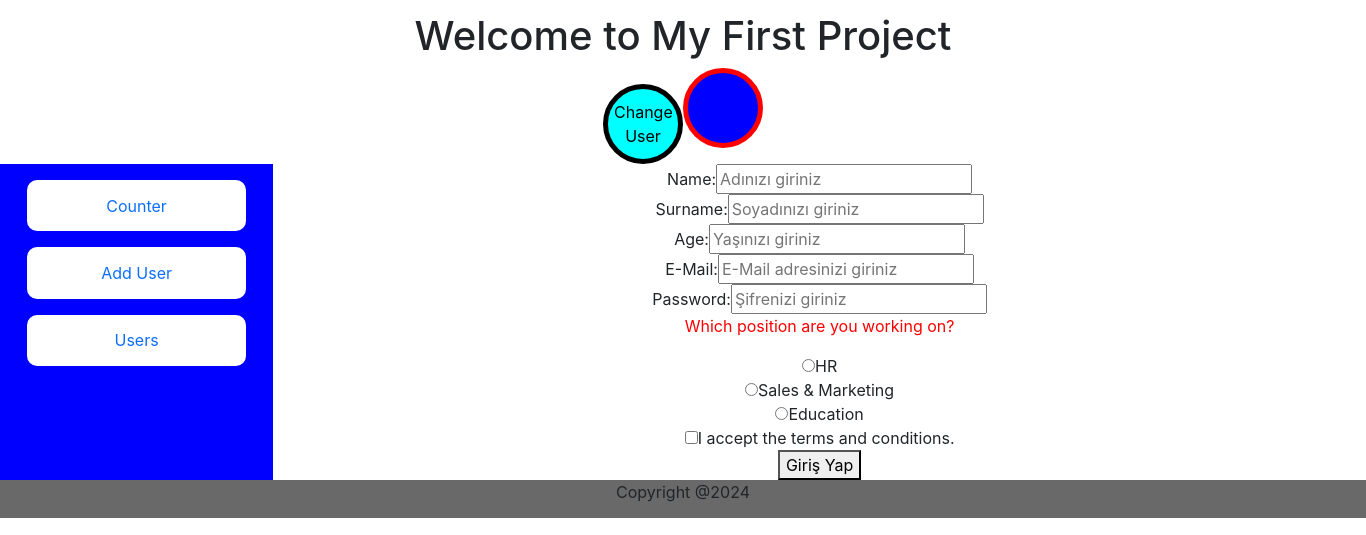
Test: Counter Page Testleri › Decrease Testleri › Should show 1 after increase 2 and decrease 1
The width and height of the screenshot is (1366, 535).
Click the link with test id "counter-page" at x=137, y=206, box [27,180,246,231]
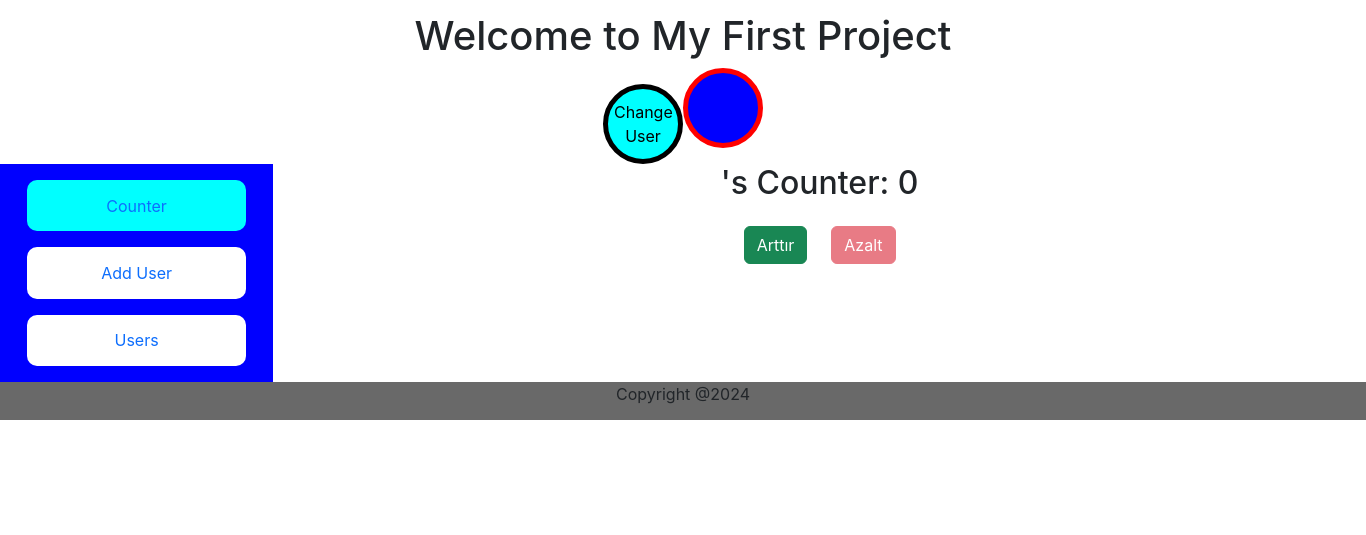
Click the button with test id "increase" at x=776, y=245, box [744,226,808,264]
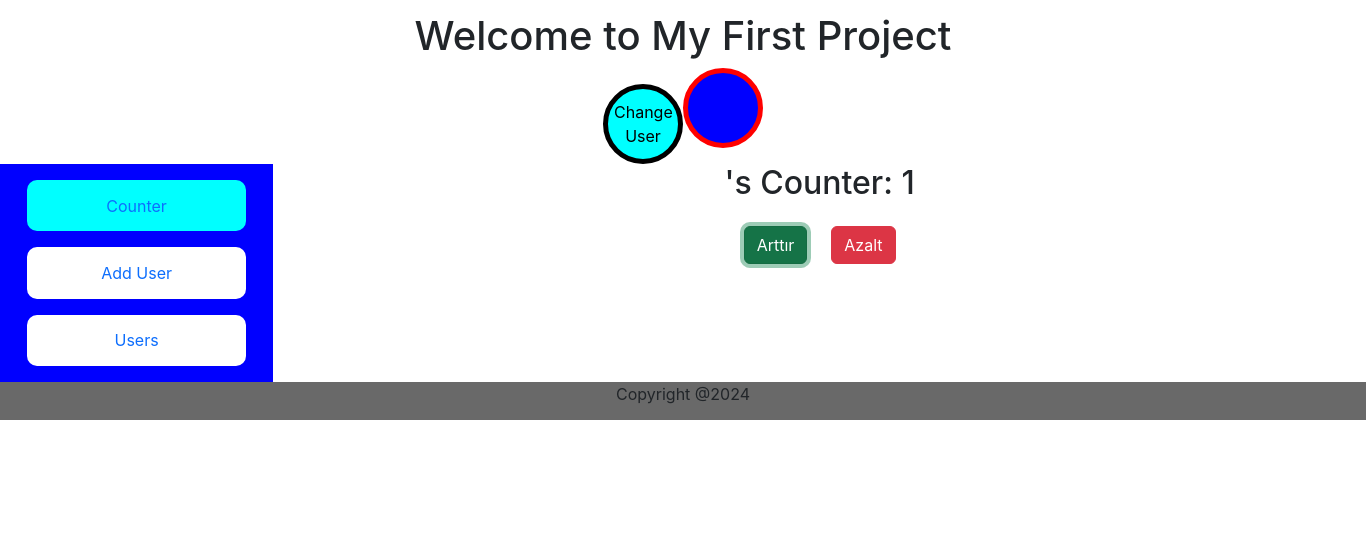
Click the button with test id "increase" at x=776, y=245, box [744,226,808,264]
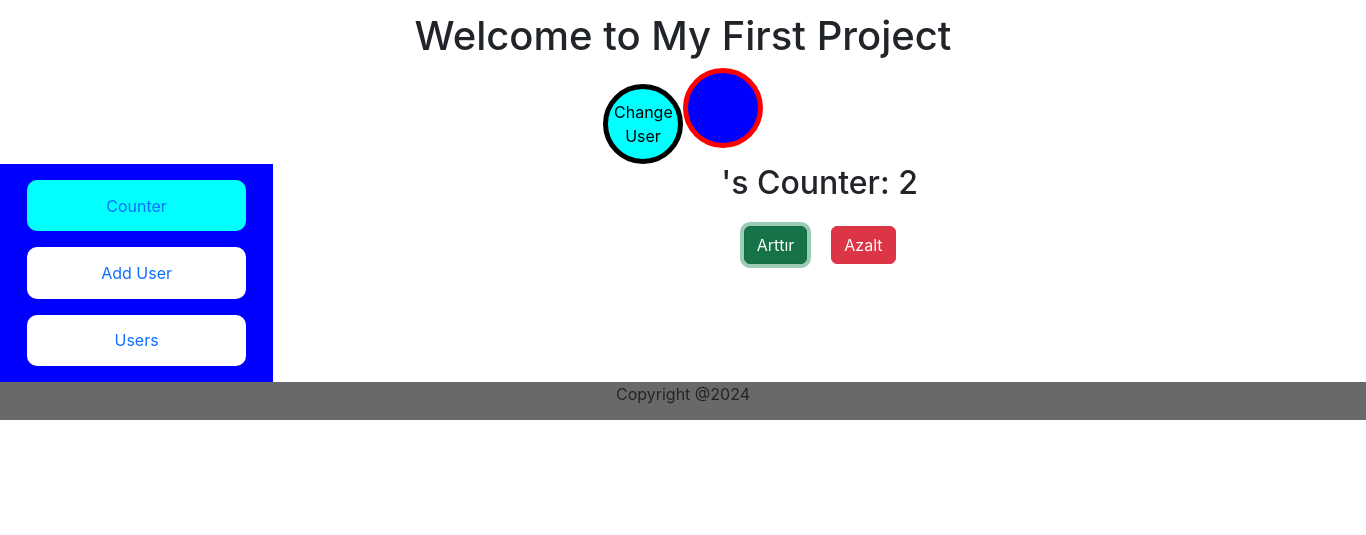
Click the button with test id "decrease" at x=863, y=245, box [831,226,895,264]
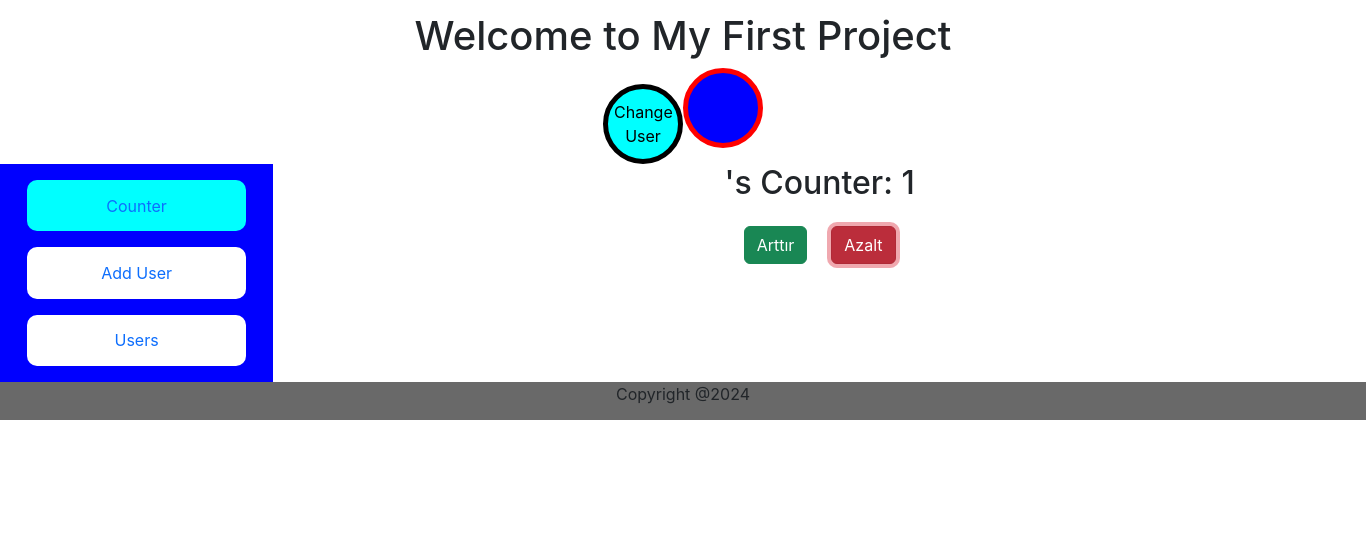
expect the heading "'s Counter: 1" is shown: met, box [724,163,915,202]
